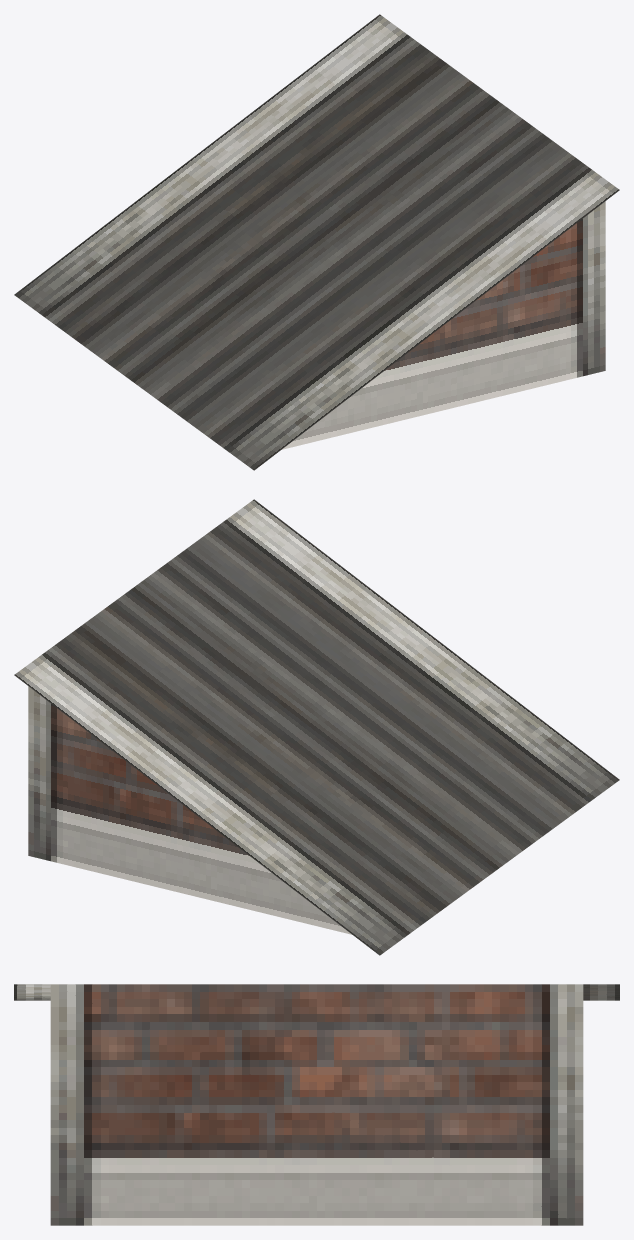
Rendered from wall-a-roof-slant-detailed.opt.glb.
The picture shows the model from 3 angles, top to bottom: view 1: azimuth 30°, elevation 25°; view 2: azimuth 150°, elevation 25°; view 3: azimuth 270°, elevation 25°; orthographic projection. The views are drawn at different scales.
Size of the model in its own units: 1 by 0.5 by 1.14.
3 materials, 3 textured.
